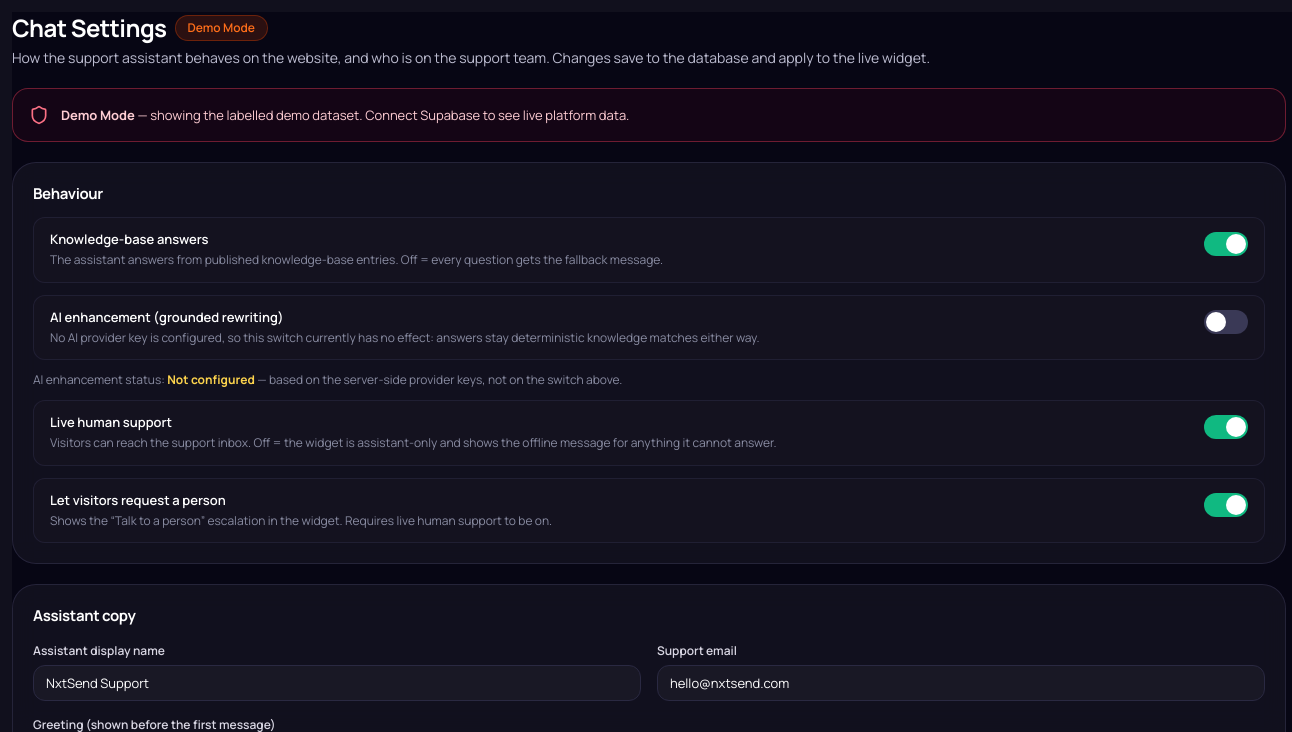
Scenario: SupportSettings › persists a behaviour toggle through the settings API and reports the honest AI state
The image size is (1292, 732).
Check: the text "Not configured" is shown, box top-left (167, 371), bottom-right (255, 388)
Click the switch named "Live human support" at [1226, 427], box top-left (1204, 415), bottom-right (1248, 439)
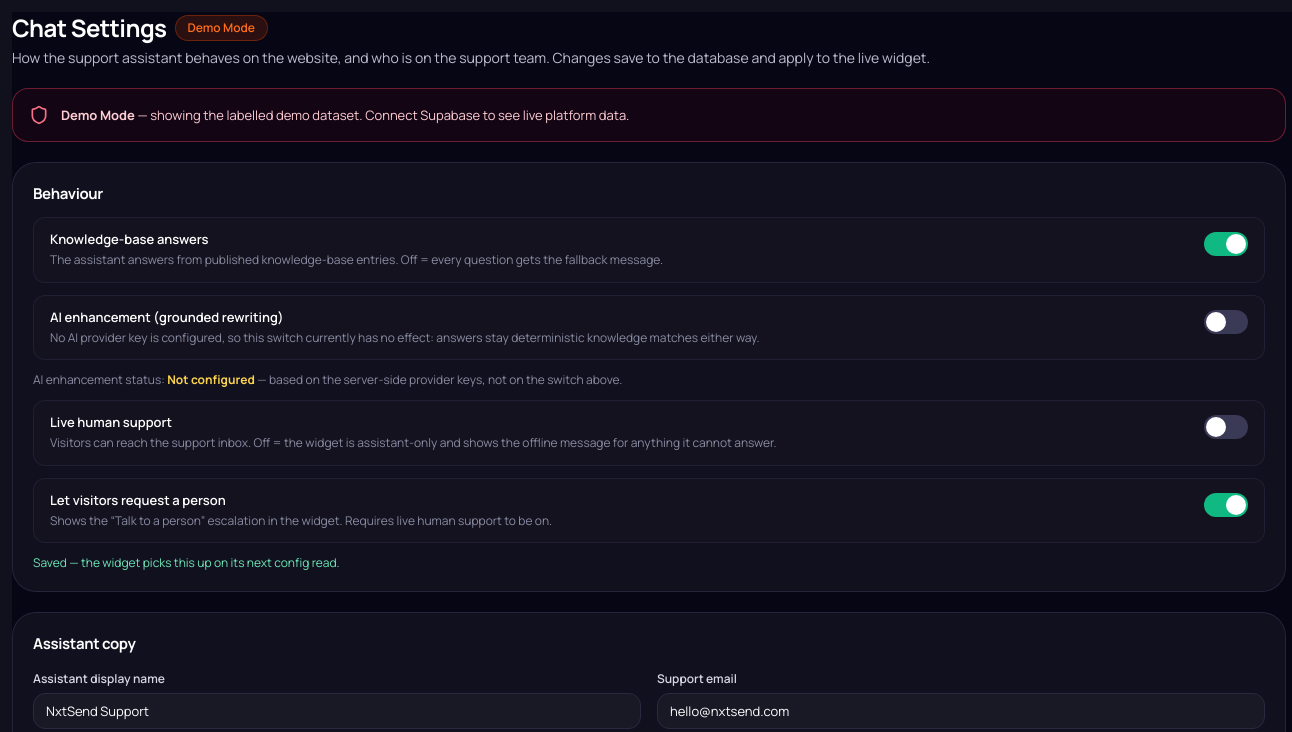
Check: the text "Saved — the widget picks this up on its next config read." is shown, box top-left (33, 554), bottom-right (340, 571)
